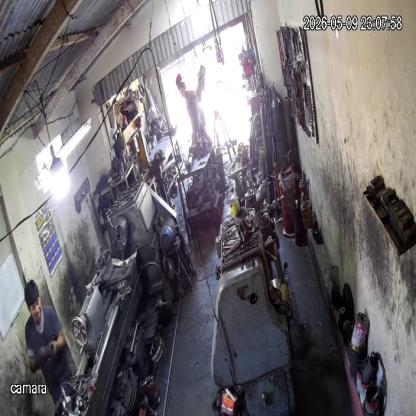sin_lentes: (25, 298, 48, 312)
